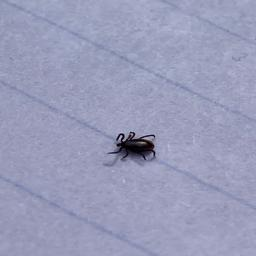Ixodes scapularis: (108, 133, 158, 162)
